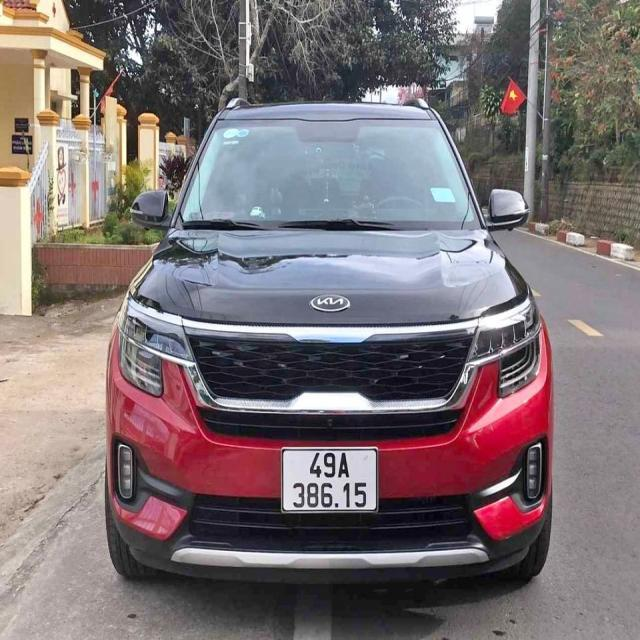car: (114, 90, 552, 597)
plate: (274, 441, 385, 516)
